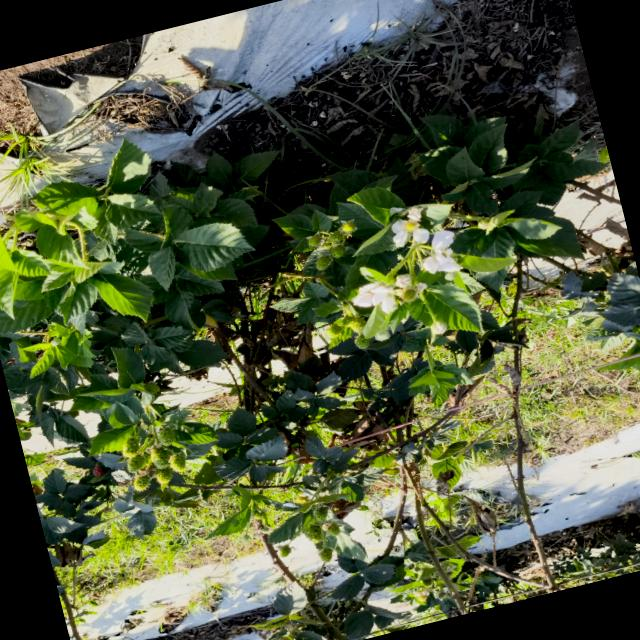boton: (430, 320, 447, 334), (375, 330, 390, 340)
flor: (422, 230, 460, 273), (392, 207, 429, 247), (352, 281, 393, 306)
